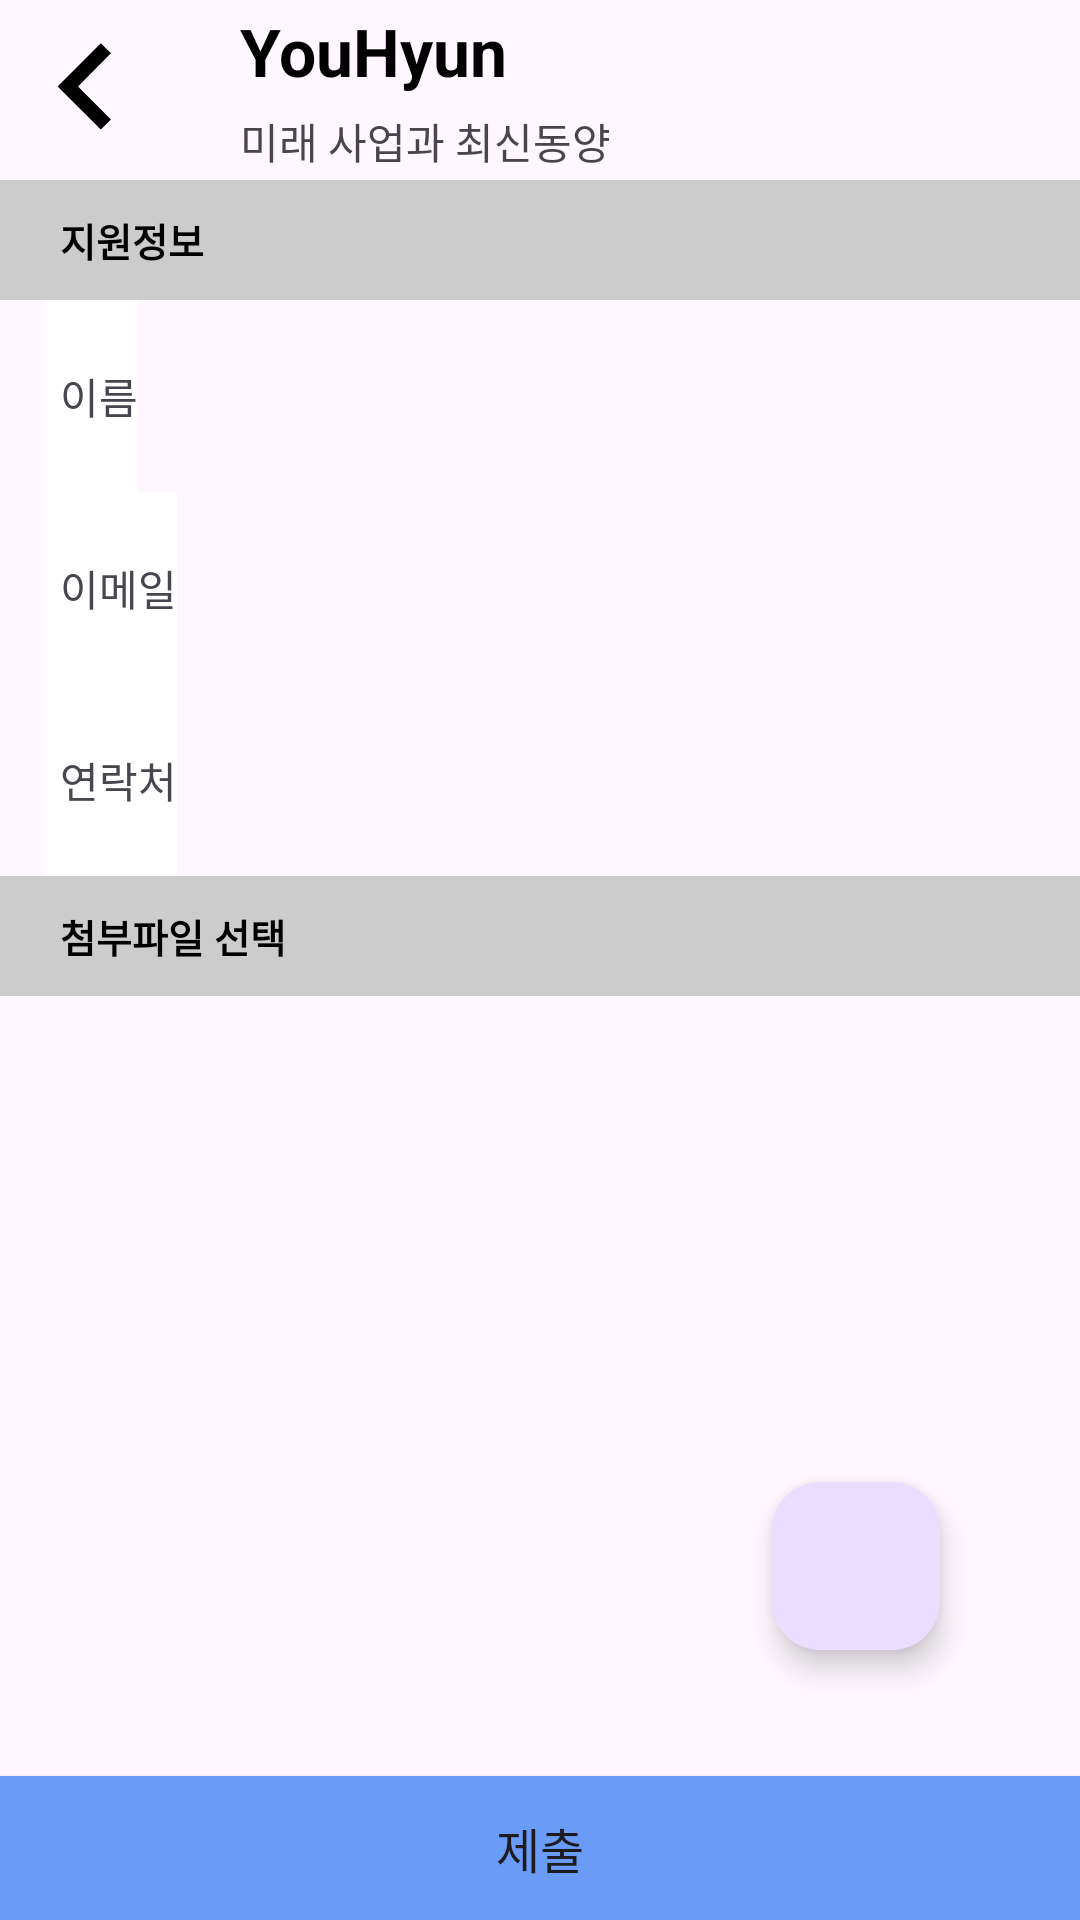

Screen size 1080 x 1920. Icon name, then its box in pixels as (x1, y1, x2, y2):
keyboard arrow left: (57, 43, 111, 130)
